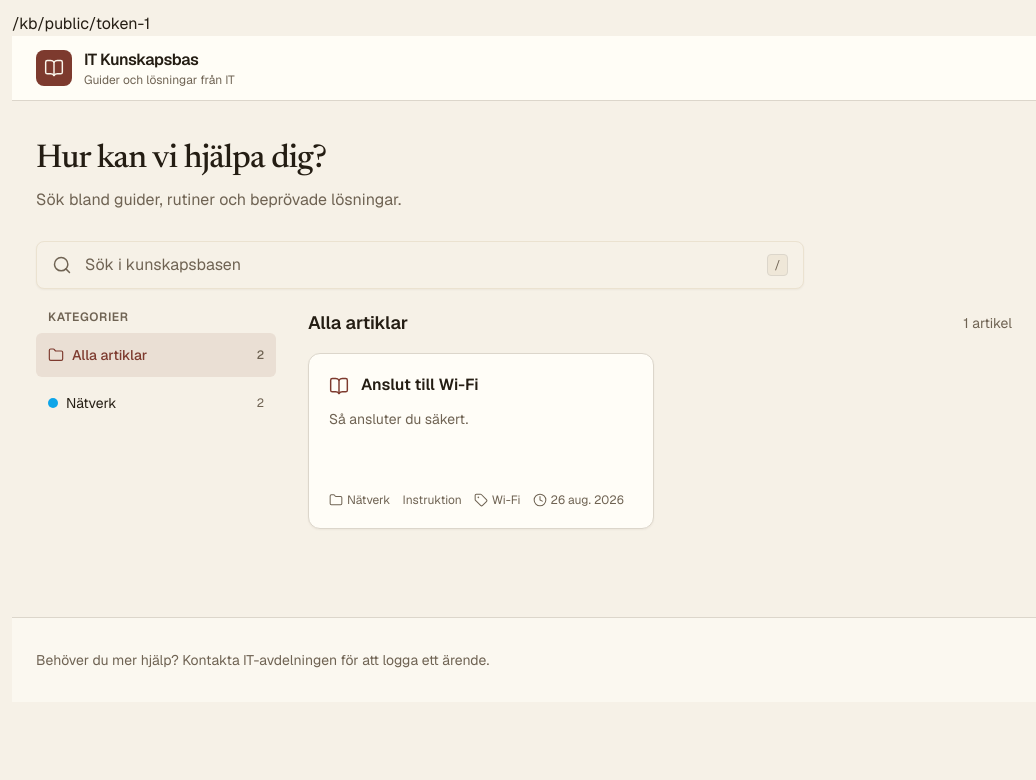
Test: PublicKnowledgeBase › debouncar skriven sökning innan den skrivs till URL och hämtas
Expected: the heading "Anslut till Wi-Fi" is shown, [361,374,479,396]
Type "vpn" into the field labelled "Sök i kunskapsbasen" at x=420, y=265, box [36,241,804,289]
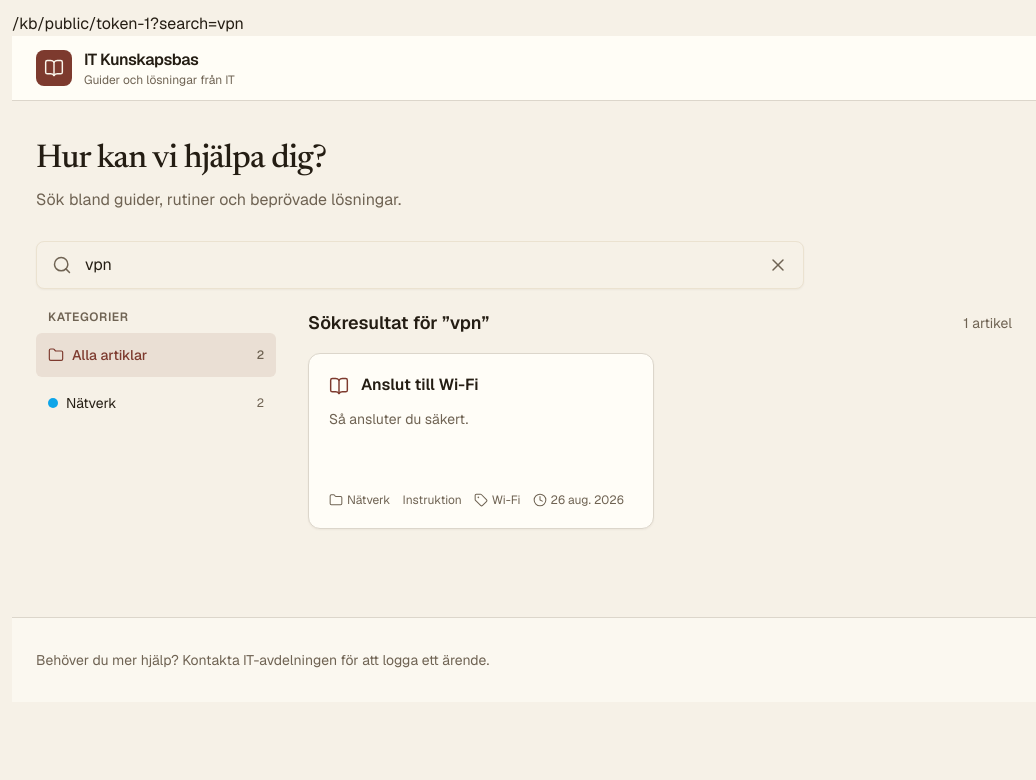
Expected: the text with test id "location" shows "/kb/public/token-1", [12,13,150,34]
Expected: the text with test id "location" shows "?search=vpn", [150,13,244,34]
